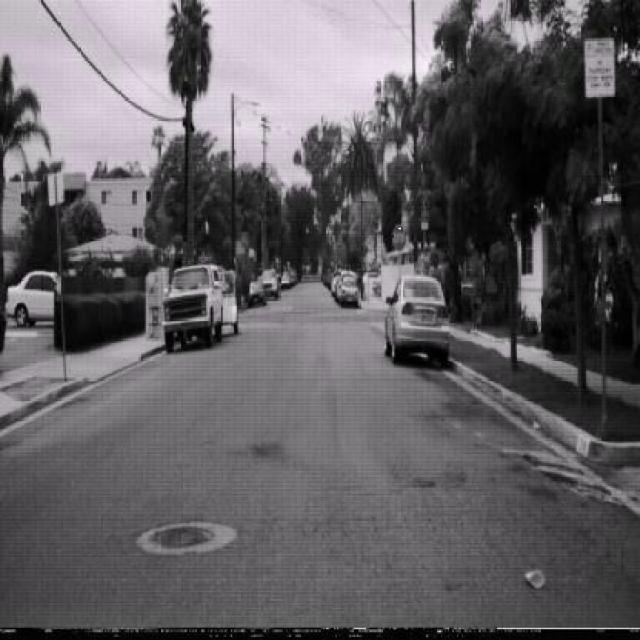stop: (392, 223, 407, 252)
